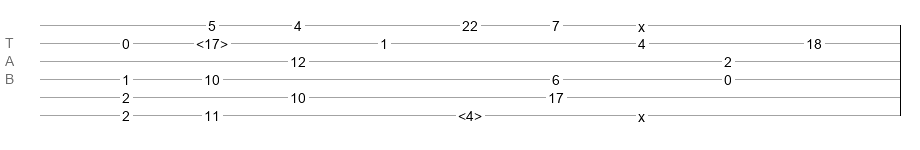0: (122, 36, 130, 46), (724, 72, 732, 82)
1: (122, 72, 130, 82), (380, 36, 388, 46)
10: (204, 72, 220, 82), (290, 90, 306, 100)
11: (204, 108, 220, 118)
12: (290, 54, 306, 64)
17: (548, 90, 564, 100)
18: (806, 36, 822, 46)
2: (122, 108, 130, 118), (122, 90, 130, 100), (724, 54, 732, 64)
22: (462, 18, 478, 28)
4: (294, 18, 302, 28), (638, 36, 646, 46)
5: (208, 18, 216, 28)
6: (552, 72, 560, 82)
7: (552, 18, 560, 28)
harmonic: (196, 36, 228, 46), (458, 108, 482, 118)
x: (638, 109, 645, 117), (638, 19, 645, 27)
